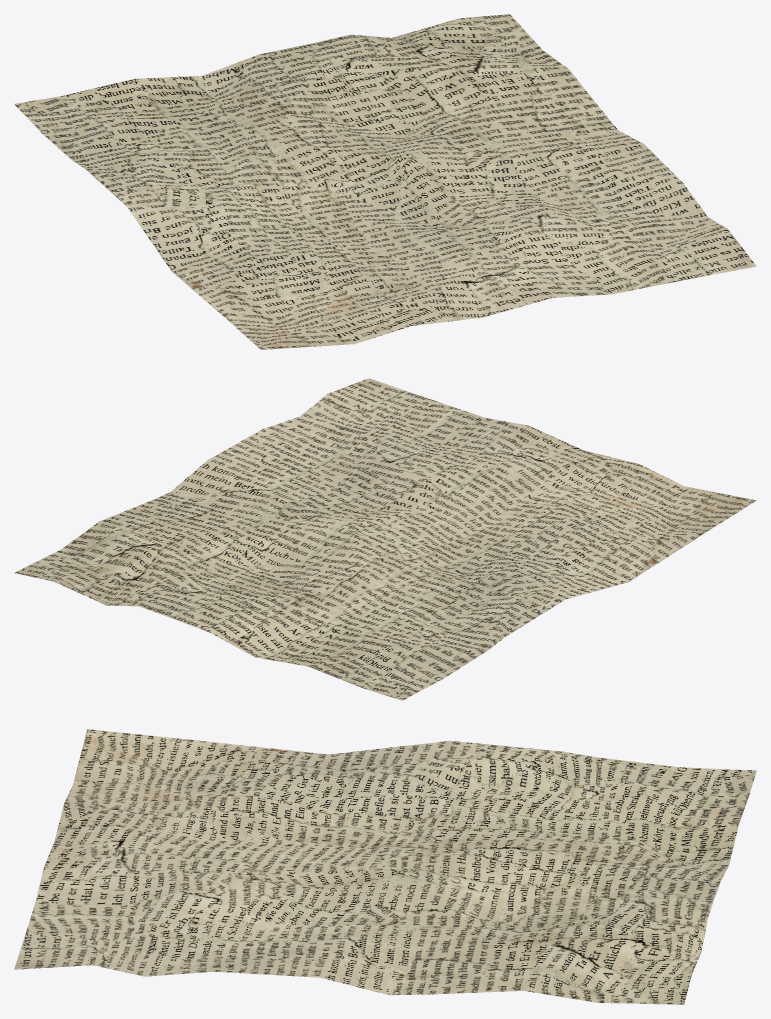
File: News2.glb
The picture shows the model from 3 angles, top to bottom: view 1: azimuth 30°, elevation 25°; view 2: azimuth 150°, elevation 25°; view 3: azimuth 270°, elevation 25°; orthographic projection. The views are drawn at different scales.
Parts seen in each view (by area): view 1: Plane.005; view 2: Plane.005; view 3: Plane.005.
Boxes of the visible parts, left/top/right/bottom form: Plane.005: left=14, top=14, right=756, bottom=349; Plane.005: left=14, top=378, right=756, bottom=700; Plane.005: left=14, top=729, right=756, bottom=1004.
Size of what is drawn, in the model's own units: 1.14 by 0.0523 by 1.31.
Materials: 1 (1 with a texture image).
